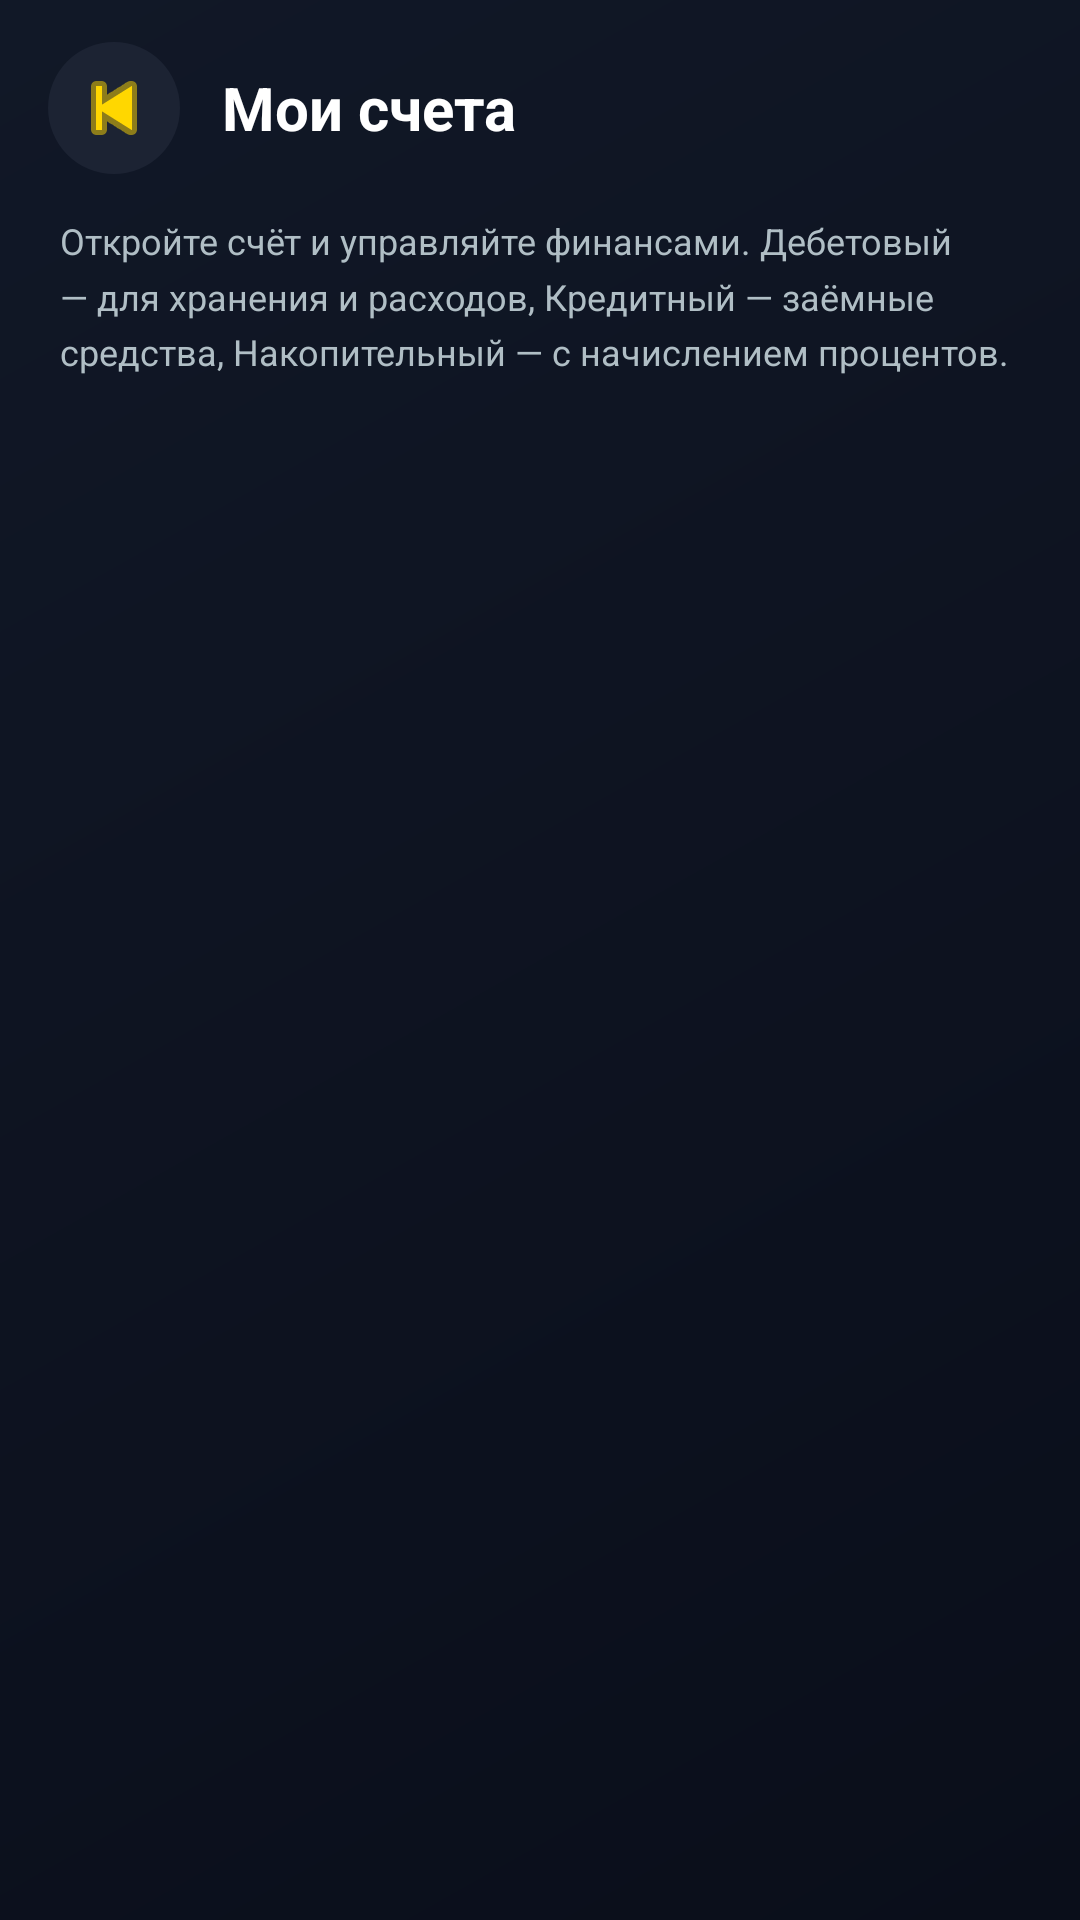

Where to tap for icons on this 1080px x 1920px app screen, as (x,y):
Назад: (114,108)
